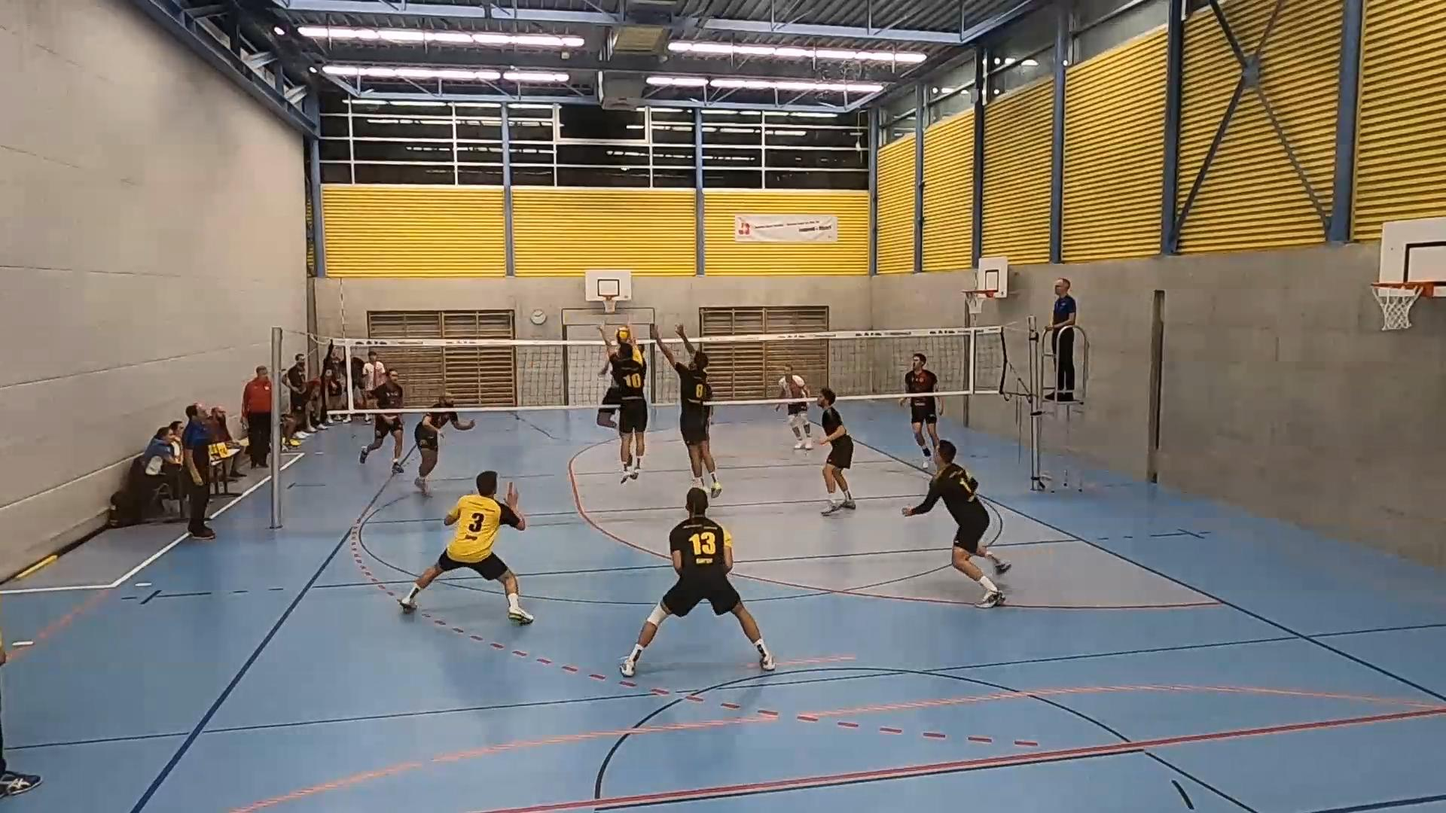attacco: (584, 331, 622, 439)
muro: (593, 324, 656, 483), (653, 327, 708, 484)
